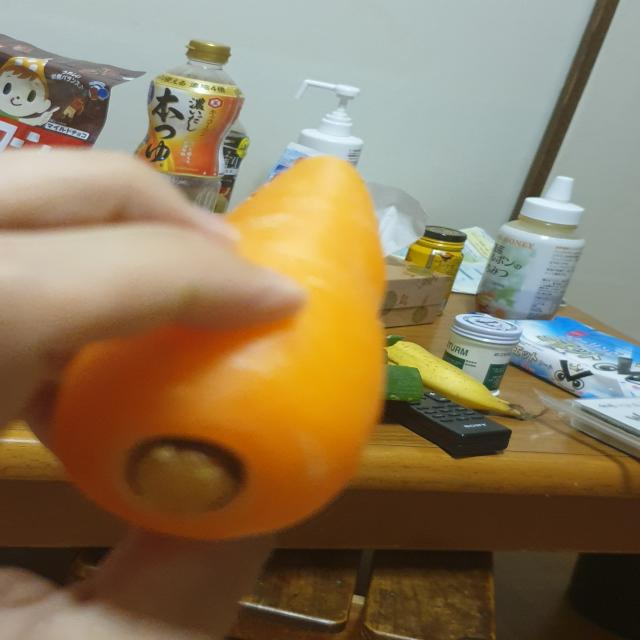carrot: (36, 146, 398, 548)
